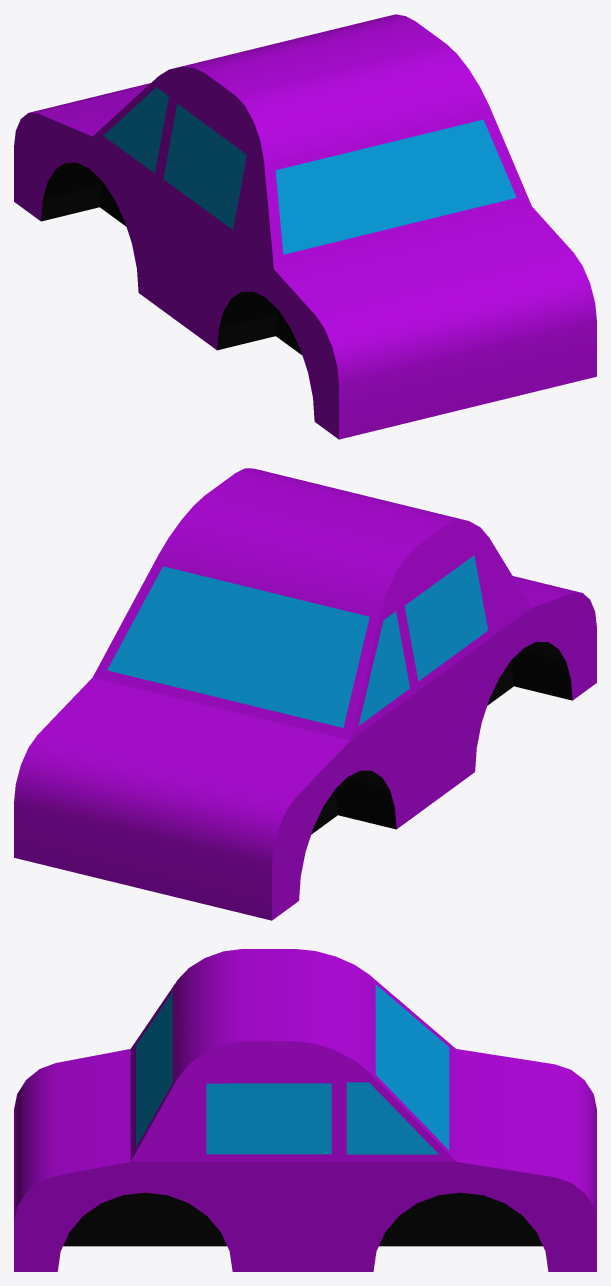
File: Body_Curvy.glb
3 views of the same model, one above another, from view 1: azimuth 30°, elevation 25°; view 2: azimuth 150°, elevation 25°; view 3: azimuth 270°, elevation 25° (orthographic). The views are drawn at different scales.
Visible parts, largest first — view 1: Body_Curvy; view 2: Body_Curvy; view 3: Body_Curvy.
Boxes of the visible parts, <box> form: Body_Curvy: <box>14,14,596,439</box>; Body_Curvy: <box>14,468,596,920</box>; Body_Curvy: <box>14,949,596,1271</box>.
Bounding box in the file's own units: 1.1 × 1 × 2.4.
